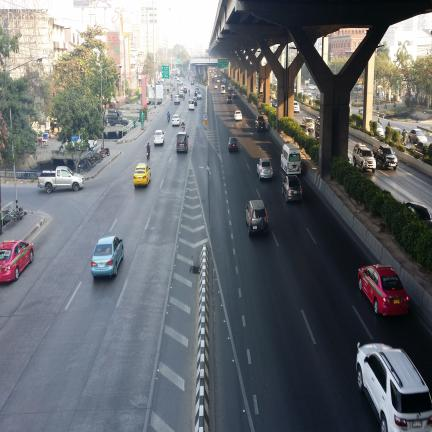car: (91, 236, 124, 278), (246, 200, 268, 236), (282, 175, 302, 202), (256, 158, 273, 181), (154, 130, 164, 146), (228, 137, 238, 152), (172, 114, 180, 126), (234, 110, 242, 121), (362, 114, 362, 116)
motorbike: (104, 148, 110, 156), (146, 150, 150, 159), (167, 115, 170, 122), (182, 125, 185, 131)
pickup: (38, 166, 84, 193), (255, 116, 266, 132)
taxi: (358, 264, 409, 315), (0, 240, 34, 281), (133, 163, 150, 187)
van: (281, 143, 301, 175), (176, 132, 188, 153), (188, 99, 194, 110)
